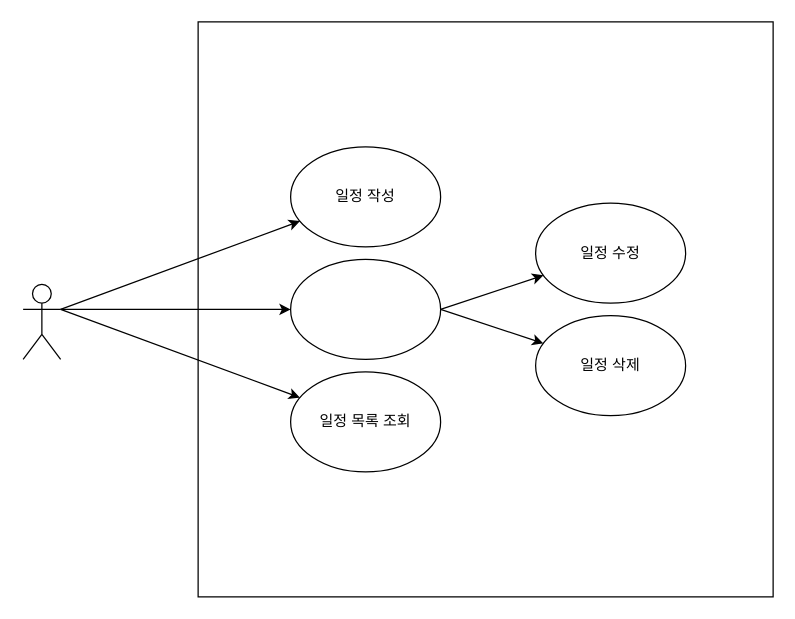
This 795x619 diagram has some shape labels left out. Each missing label, with the box of its shape:
사용자: (22, 283, 61, 359)
일정 조회: (289, 258, 441, 359)
